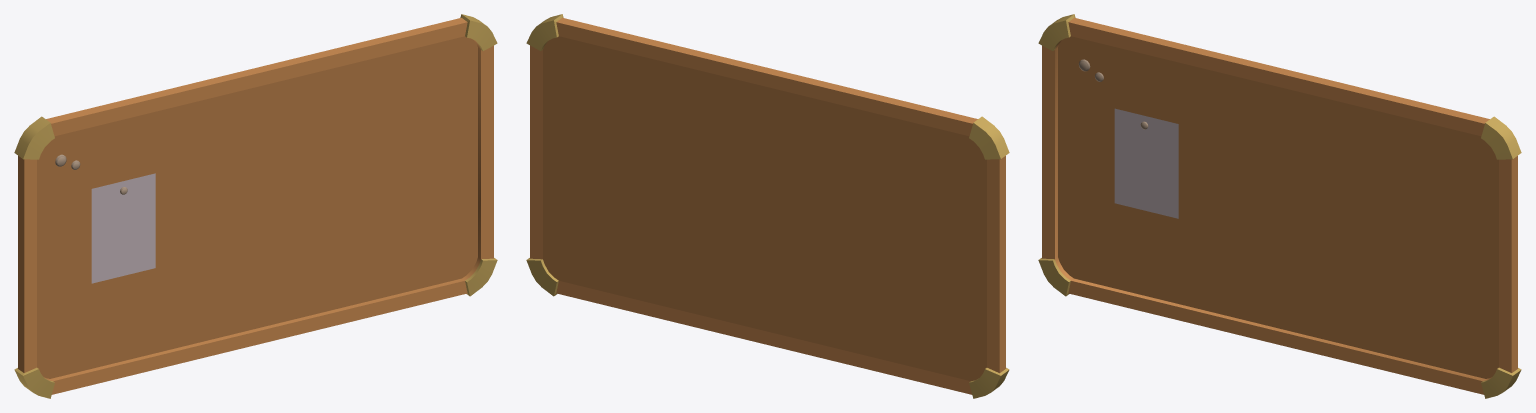
The model's file is whiteboard.fbx.
The picture shows the model from 3 angles, left to right: view 1: azimuth 30°, elevation 25°; view 2: azimuth 150°, elevation 25°; view 3: azimuth 330°, elevation 25°; orthographic projection.
Visible parts, largest first — view 1: Whiteboard, Paper and magnet; view 2: Whiteboard; view 3: Whiteboard, Paper and magnet.
Part boxes in pixels (<box>): Whiteboard: <box>14,14,497,398</box>; Paper and magnet: <box>91,173,155,283</box>; Whiteboard: <box>526,14,1009,398</box>; Whiteboard: <box>1038,14,1521,398</box>; Paper and magnet: <box>1114,108,1178,218</box>.
Size of the model in its own units: 5.94 by 3.31 by 0.2193.
